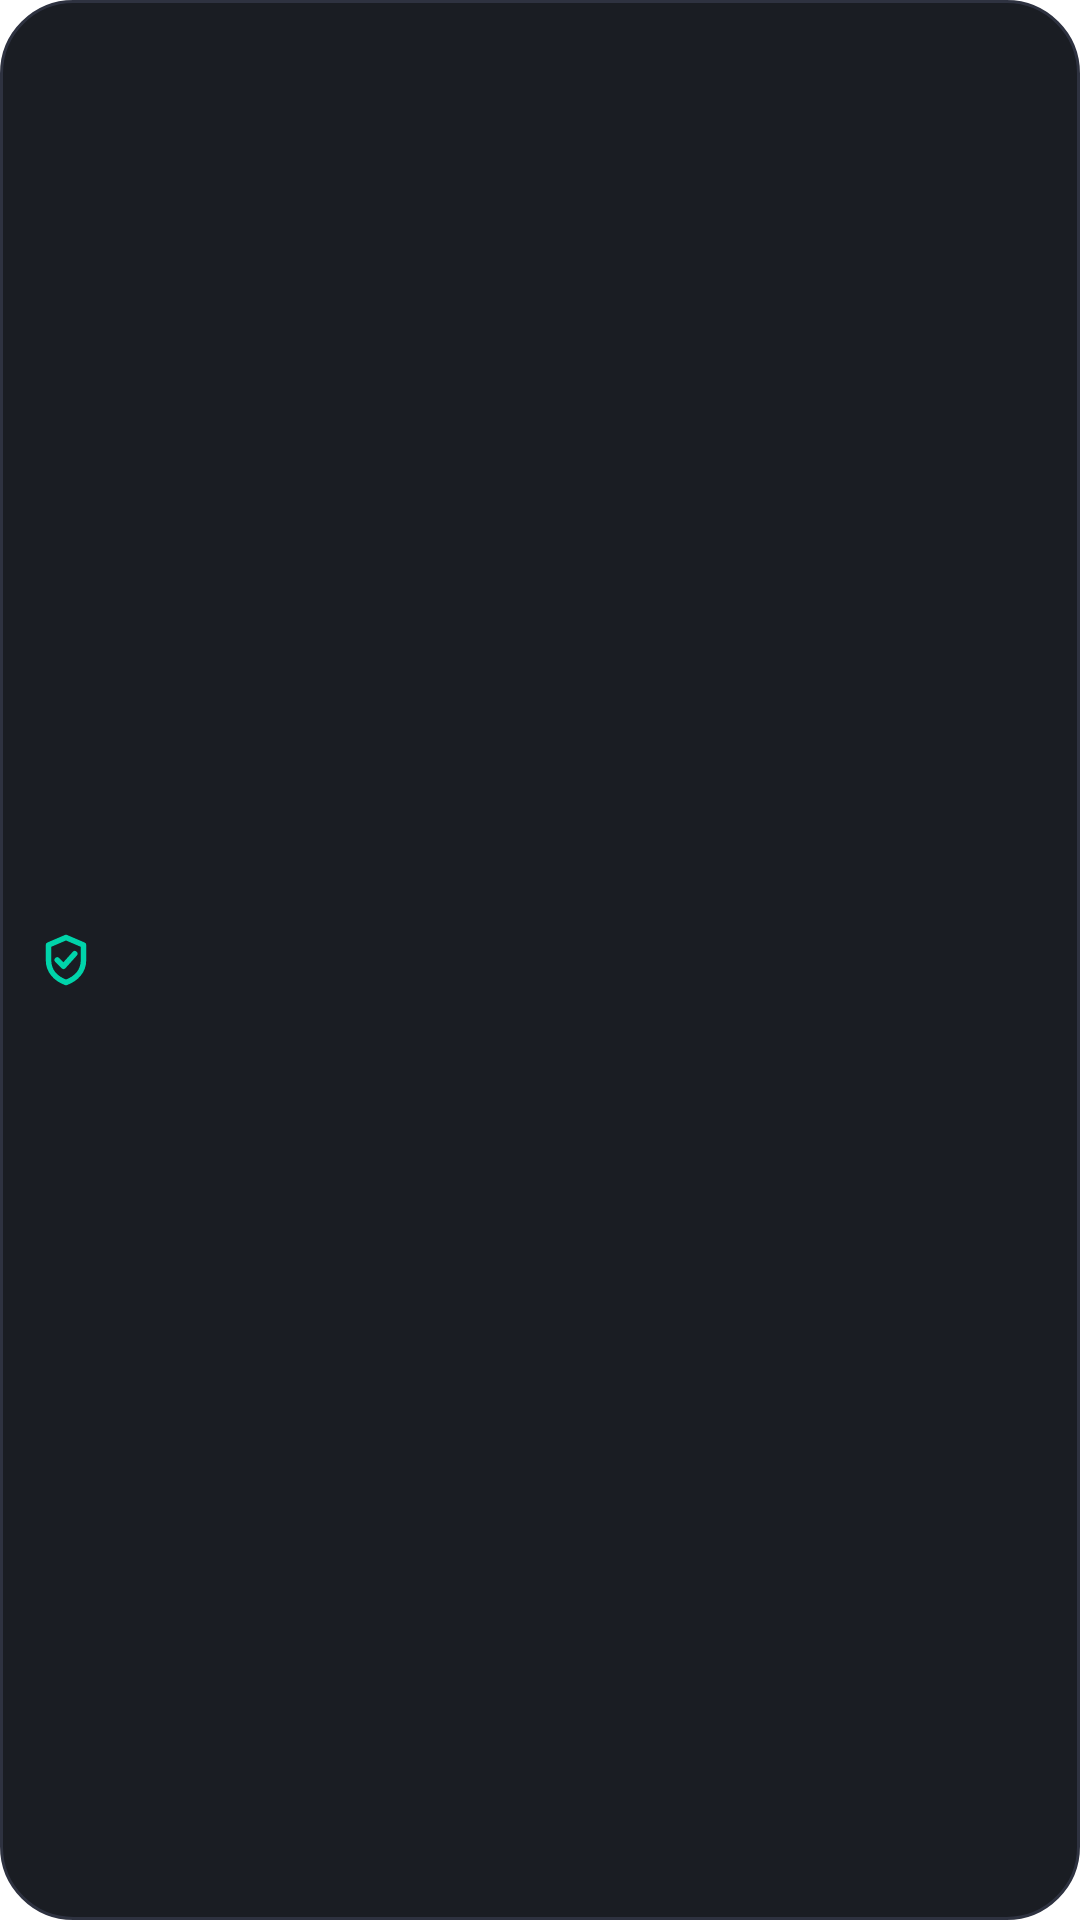

Where to tap for icons on this 1080×1920 app screen, as point (x, y):
widget shield: point (66, 960)
